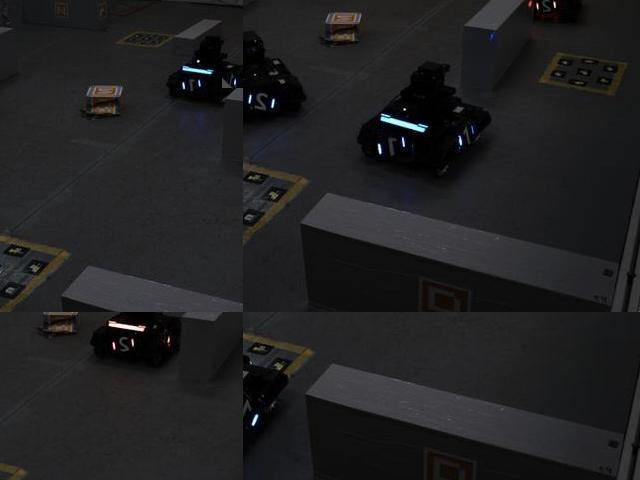armor: (377, 130, 413, 164), (243, 388, 266, 435), (244, 90, 283, 115), (109, 332, 138, 357), (180, 75, 207, 97), (454, 124, 478, 147), (534, 0, 562, 18), (159, 326, 179, 348), (223, 72, 242, 91)
